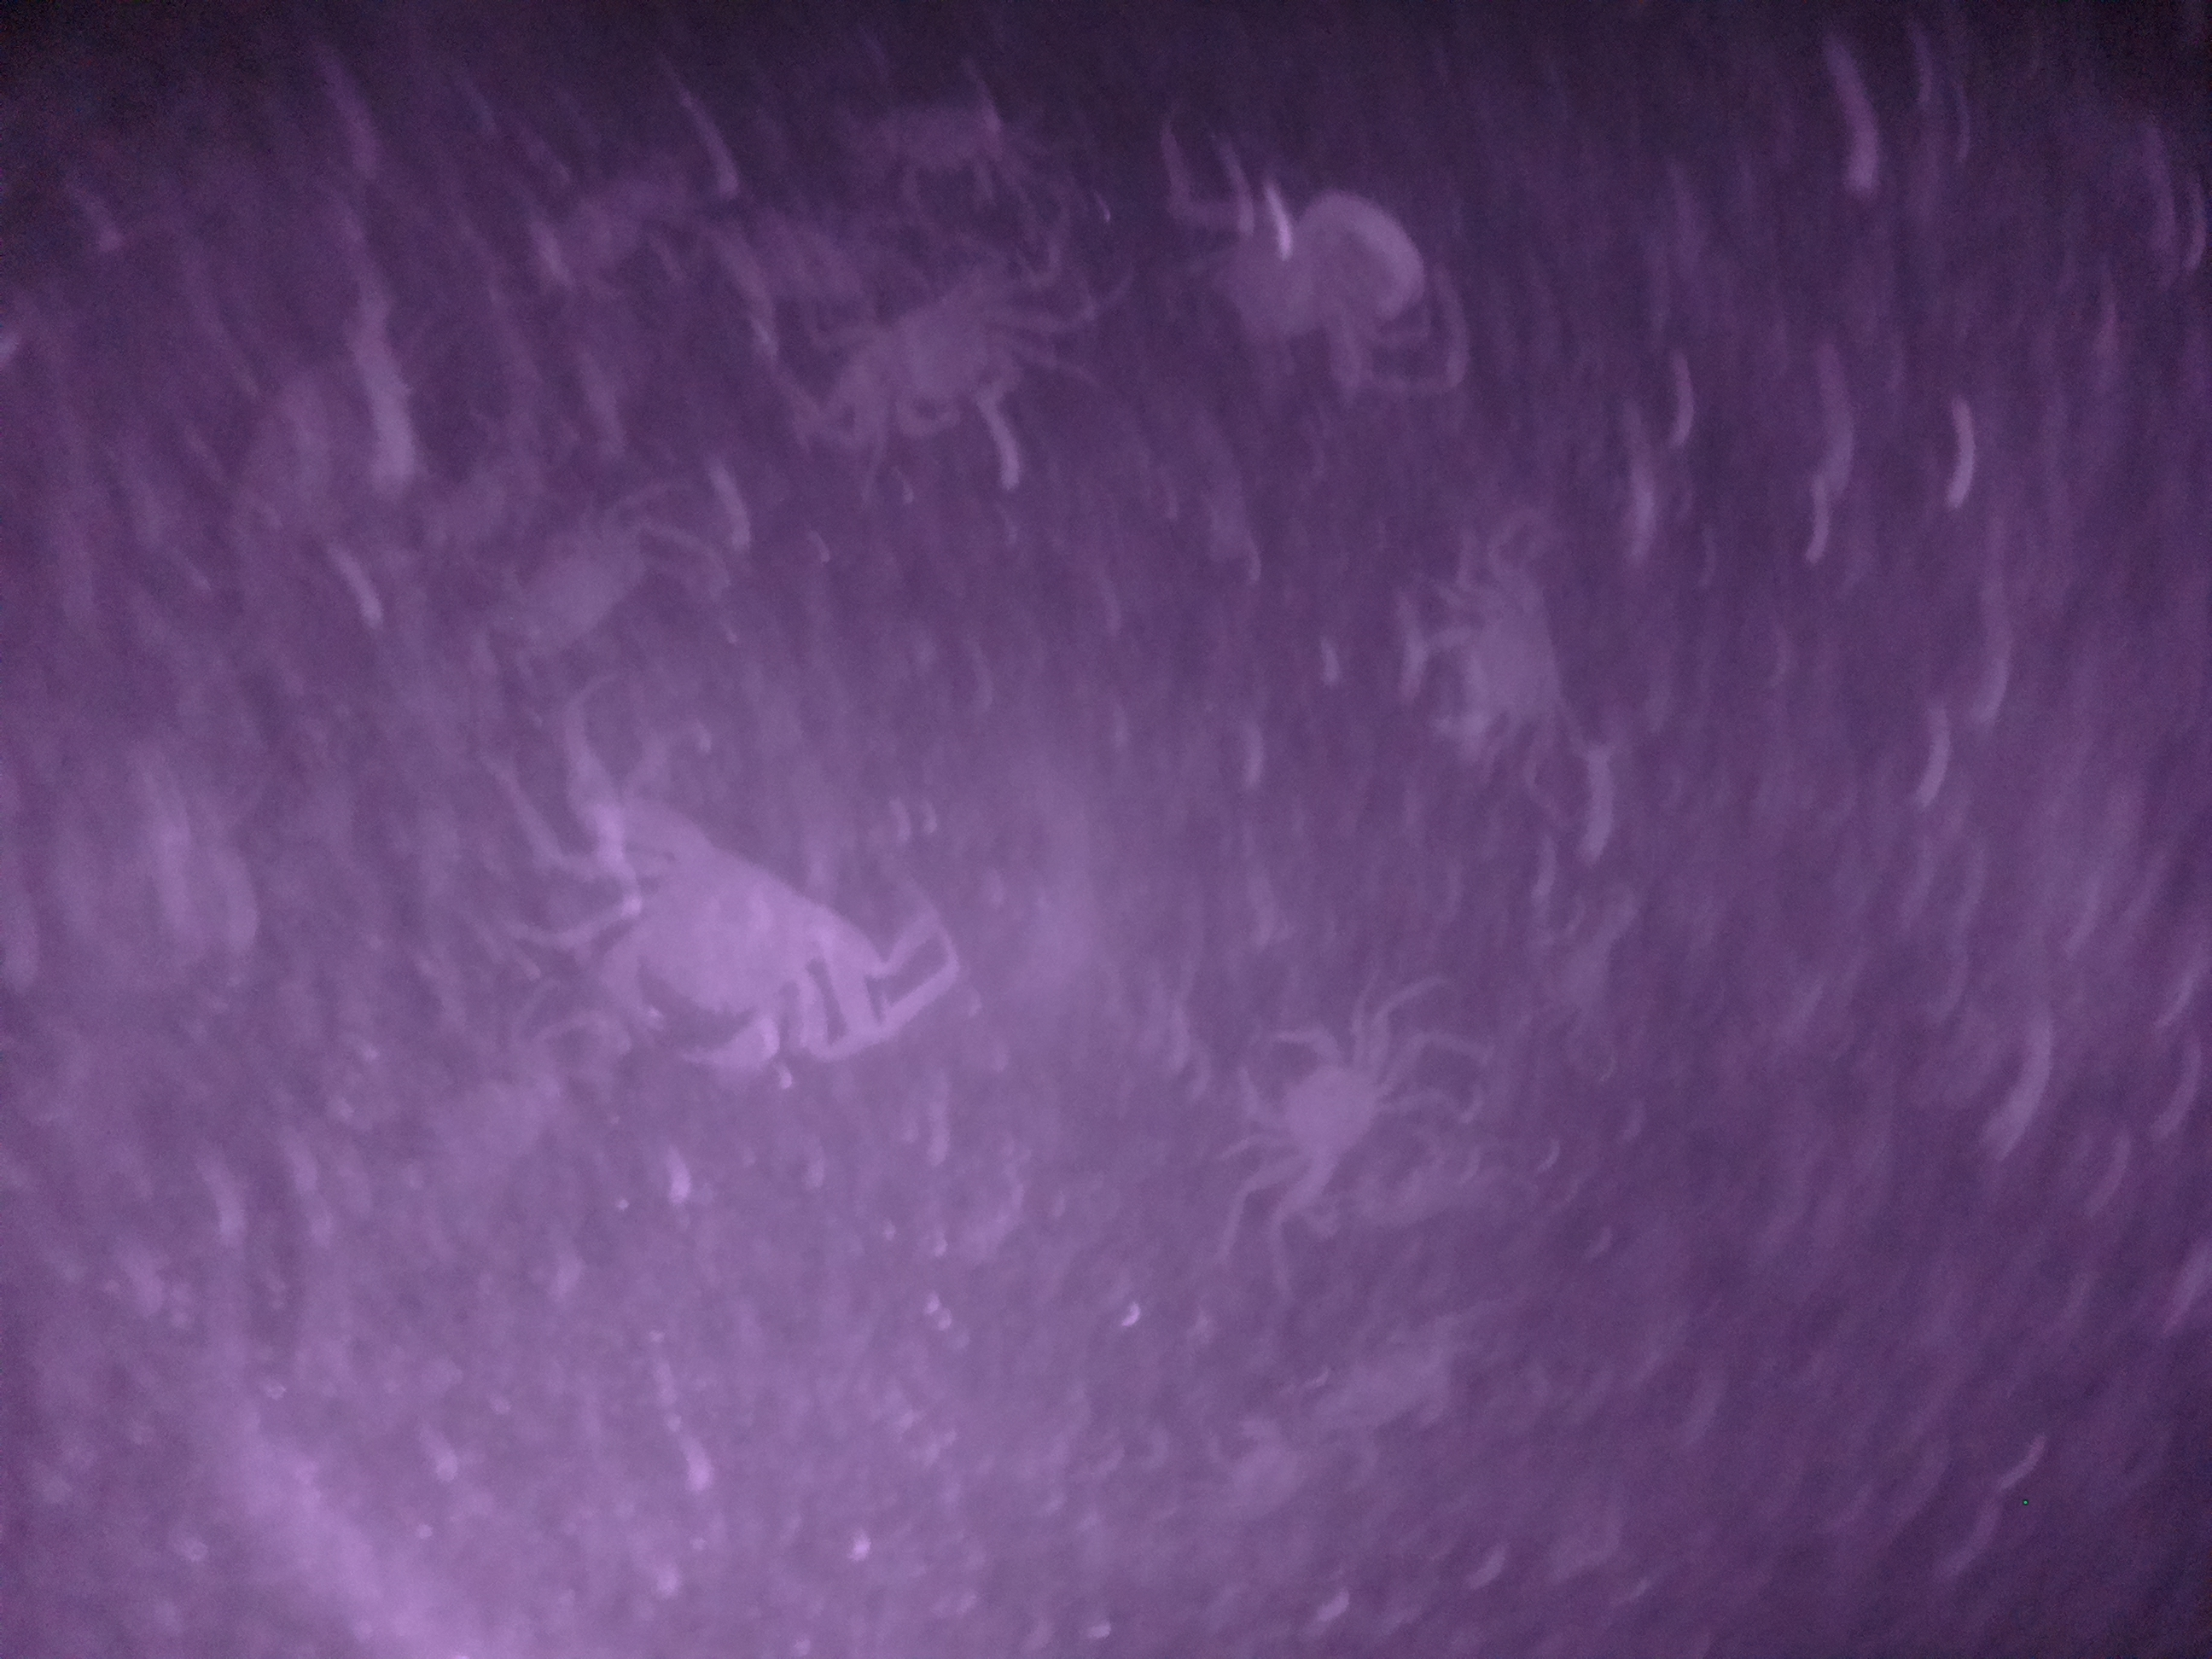Crab: (1214, 1000, 1411, 1218), (834, 256, 1031, 451)
